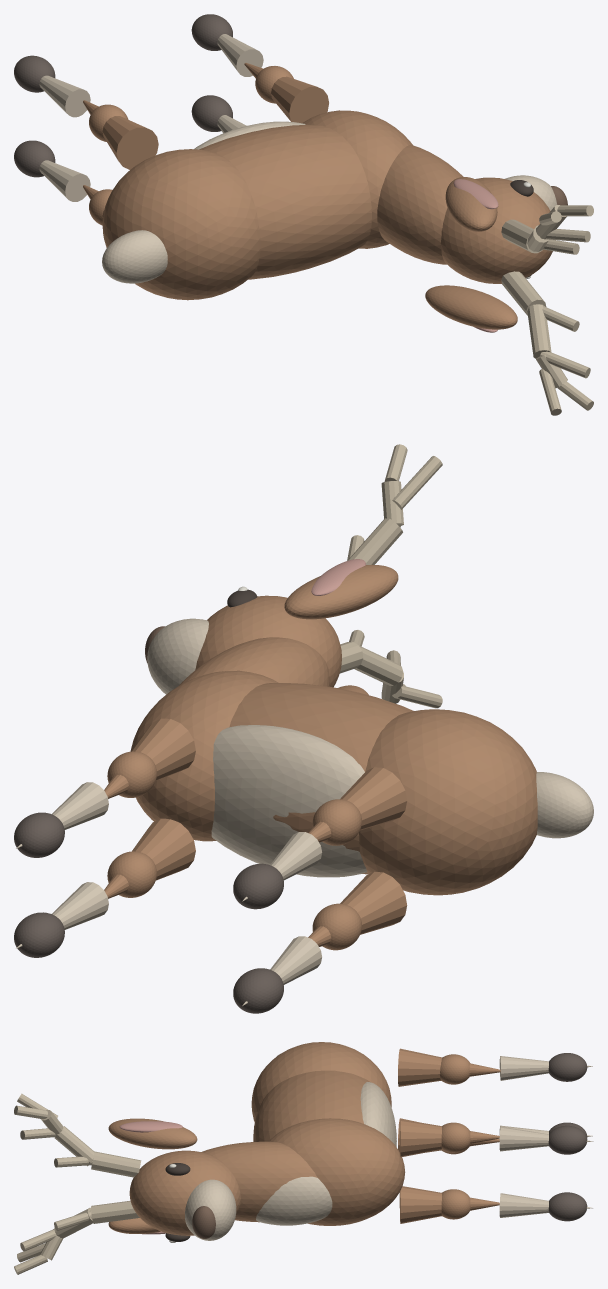
File: stylized_forest_deer.glb
3 views of the same model, one above another, from view 1: azimuth 30°, elevation 25°; view 2: azimuth 150°, elevation 25°; view 3: azimuth 270°, elevation 25° (orthographic). The views are drawn at different scales.
Visible parts, largest first — view 1: rump_1, torso_0, neck_4, head_6, chest_2, ear_12, tail_9, hind_far_upper_30, front_far_upper_22, ear_16, hind_far_lower_32, hind_near_lower_28 (+15 smaller); view 2: rump_1, belly_patch_3, chest_2, torso_0, head_6, neck_4, ear_16, muzzle_7, tail_9, hind_near_upper_26, hind_far_upper_30, front_near_upper_18 (+17 smaller); view 3: chest_2, head_6, torso_0, neck_4, rump_1, throat_patch_5, muzzle_7, hind_far_upper_30, ear_16, front_far_upper_22, front_near_upper_18, belly_patch_3 (+22 smaller).
Boxes of the visible parts, bbox=[...] form: rump_1: bbox=[102, 149, 260, 300]; torso_0: bbox=[199, 124, 371, 279]; neck_4: bbox=[377, 144, 463, 264]; head_6: bbox=[440, 177, 552, 283]; chest_2: bbox=[302, 110, 412, 248]; ear_12: bbox=[425, 285, 517, 329]; tail_9: bbox=[102, 230, 167, 283]; hind_far_upper_30: bbox=[83, 100, 158, 169]; front_far_upper_22: bbox=[244, 63, 328, 123]; ear_16: bbox=[445, 177, 497, 231]; hind_far_lower_32: bbox=[16, 63, 90, 117]; hind_near_lower_28: bbox=[39, 160, 90, 201]; rump_1: bbox=[359, 709, 537, 895]; belly_patch_3: bbox=[211, 725, 367, 877]; chest_2: bbox=[130, 670, 278, 841]; torso_0: bbox=[229, 683, 413, 874]; head_6: bbox=[195, 595, 341, 687]; neck_4: bbox=[179, 637, 329, 686]; ear_16: bbox=[284, 564, 398, 619]; muzzle_7: bbox=[147, 618, 208, 694]; tail_9: bbox=[536, 772, 593, 838]; hind_near_upper_26: bbox=[308, 871, 407, 946]; hind_far_upper_30: bbox=[308, 767, 406, 842]; front_near_upper_18: bbox=[104, 818, 195, 898]; chest_2: bbox=[268, 1118, 405, 1225]; head_6: bbox=[129, 1150, 240, 1235]; torso_0: bbox=[253, 1070, 370, 1141]; neck_4: bbox=[201, 1141, 317, 1222]; rump_1: bbox=[251, 1042, 391, 1122]; throat_patch_5: bbox=[256, 1176, 332, 1225]; muzzle_7: bbox=[185, 1179, 236, 1240]; hind_far_upper_30: bbox=[398, 1048, 500, 1086]; ear_16: bbox=[108, 1118, 197, 1149]; front_far_upper_22: bbox=[399, 1119, 499, 1157]; front_near_upper_18: bbox=[399, 1186, 499, 1223]; belly_patch_3: bbox=[360, 1082, 396, 1146].
Size of the model in its own units: 2.34 by 1.11 by 3.47.
